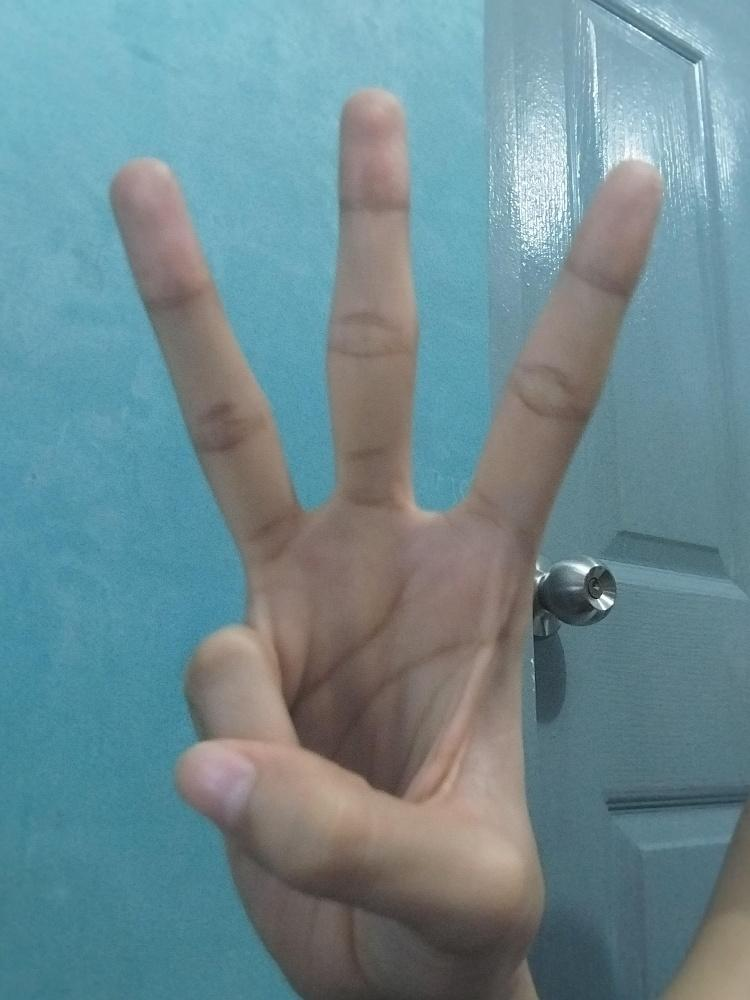w: (105, 88, 659, 999)
